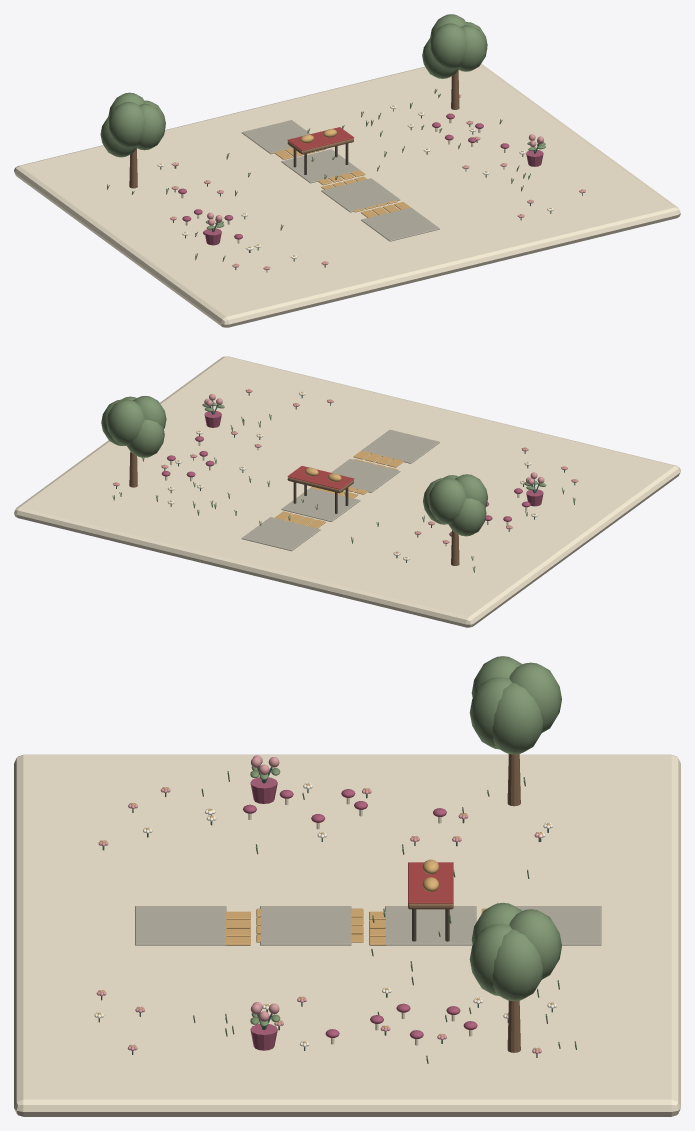
The model's file is red_meadow-3KNmt7Md.glb.
The picture shows the model from 3 angles, top to bottom: view 1: azimuth 30°, elevation 25°; view 2: azimuth 150°, elevation 25°; view 3: azimuth 270°, elevation 25°; orthographic projection. The views are drawn at different scales.
Parts seen in each view (by area): view 1: world_cream.030, world_leaf.030, world_stone.030, world_bread.030, world_rose.030, world_wood.030, FX_picnic_Story secondary.005, world_flower.030; view 2: world_cream.030, world_leaf.030, world_stone.030, world_bread.030, world_rose.030, world_wood.030, world_flower.030, FX_picnic_Story secondary.005; view 3: world_cream.030, world_leaf.030, world_stone.030, world_rose.030, world_bread.030, world_wood.030, FX_picnic_Story secondary.005, world_flower.030, world_white.030.
Boxes of the visible parts, x1,y1,x2,y2 form: world_cream.030: (14, 63, 680, 327); world_leaf.030: (100, 14, 545, 261); world_stone.030: (241, 120, 439, 241); world_bread.030: (274, 148, 410, 217); world_rose.030: (178, 113, 543, 245); world_wood.030: (129, 70, 459, 188); FX_picnic_Story secondary.005: (287, 127, 354, 150); world_flower.030: (170, 94, 585, 270); world_cream.030: (14, 356, 680, 627); world_leaf.030: (101, 396, 575, 572); world_stone.030: (241, 429, 439, 551); world_bread.030: (275, 450, 403, 528); world_rose.030: (161, 410, 543, 536); world_wood.030: (129, 452, 459, 565); world_flower.030: (113, 389, 578, 554); FX_picnic_Story secondary.005: (287, 466, 354, 489); world_cream.030: (14, 754, 680, 1116); world_leaf.030: (193, 656, 576, 1063); world_stone.030: (135, 906, 601, 945); world_rose.030: (243, 777, 477, 1050); world_bread.030: (225, 908, 486, 945); world_wood.030: (408, 754, 520, 1052); FX_picnic_Story secondary.005: (408, 862, 453, 903); world_flower.030: (96, 755, 543, 1053); world_white.030: (94, 783, 556, 1047).
Size of the model in its own units: 20 by 4.14 by 16.
